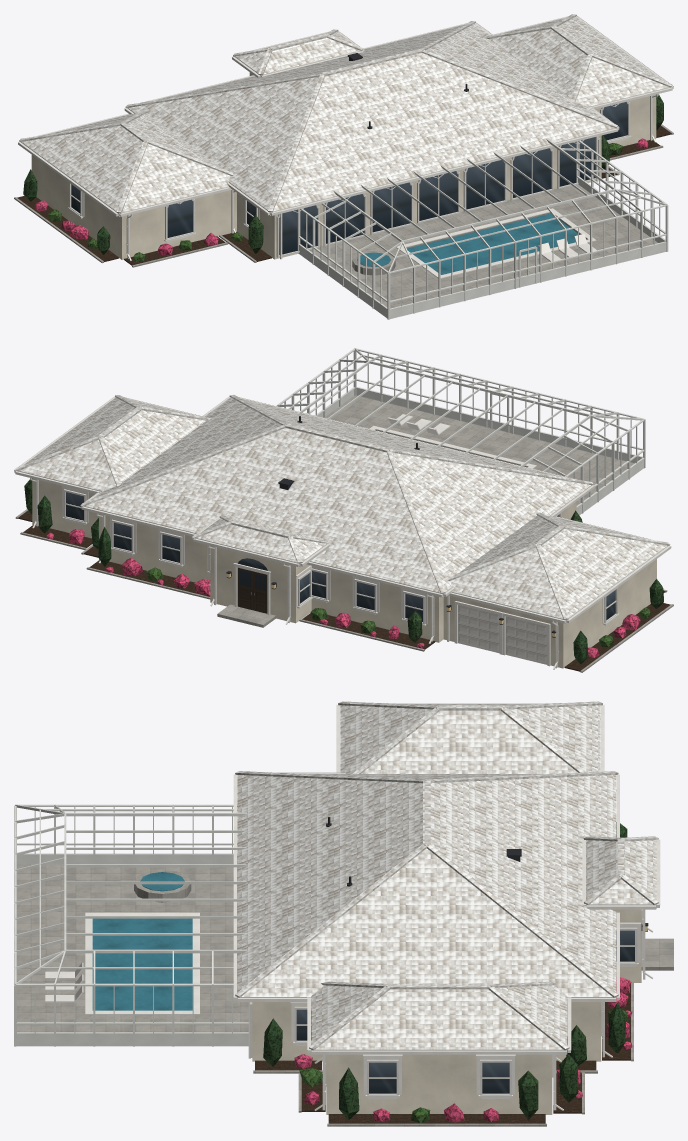
File: gulf_estate_1s.fbx
3 views of the same model, one above another, from view 1: azimuth 30°, elevation 25°; view 2: azimuth 150°, elevation 25°; view 3: azimuth 270°, elevation 25° (orthographic). The views are drawn at different scales.
Parts seen in each view (by area): view 1: gulf_estate_1s_LOD0; view 2: gulf_estate_1s_LOD0; view 3: gulf_estate_1s_LOD0.
Part boxes in pixels (x1,y1,x2,y2): gulf_estate_1s_LOD0: (14,14,673,319); gulf_estate_1s_LOD0: (14,348,673,672); gulf_estate_1s_LOD0: (14,701,673,1126).
Size of what is drawn, in the model's own units: 34.28 by 6.41 by 26.47.
2 materials, 2 textured.
